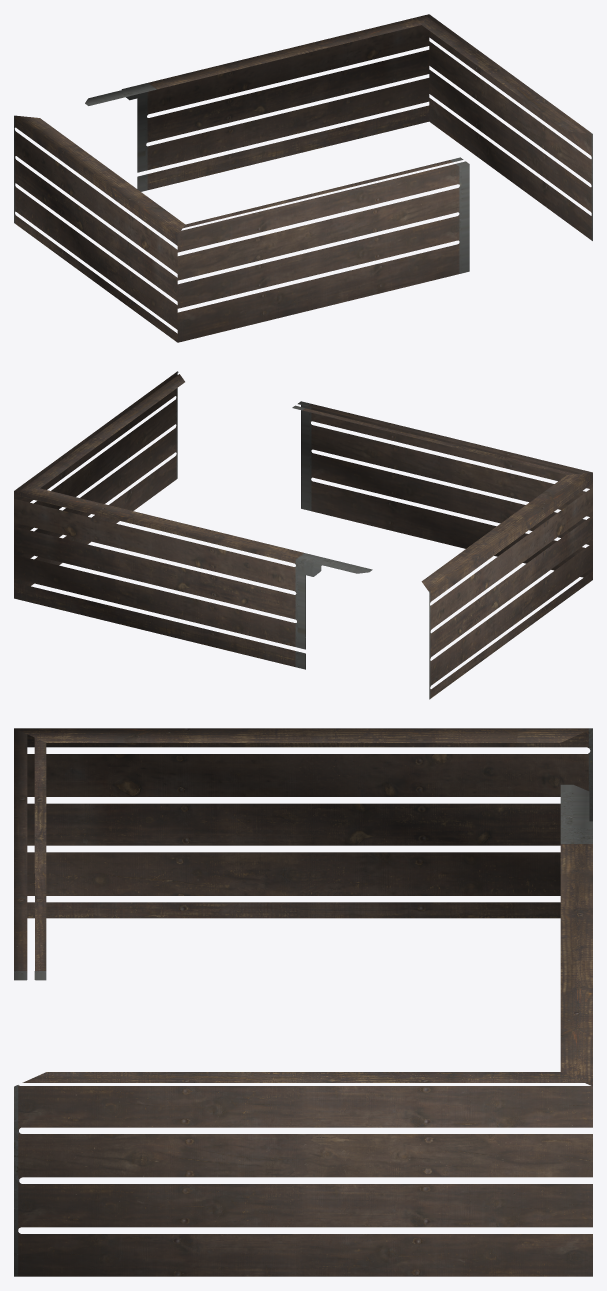
The picture shows the model from 3 angles, top to bottom: view 1: azimuth 30°, elevation 25°; view 2: azimuth 150°, elevation 25°; view 3: azimuth 270°, elevation 25°; orthographic projection. The views are drawn at different scales.
Visible parts, largest first — view 1: base; view 2: base; view 3: base.
Part boxes in pixels (box(x1,y1,x2,y2)): base: box(14, 14, 592, 342); base: box(14, 371, 592, 699); base: box(14, 728, 592, 1276).
Size of the model in its own units: 379 by 93.64 by 259.
